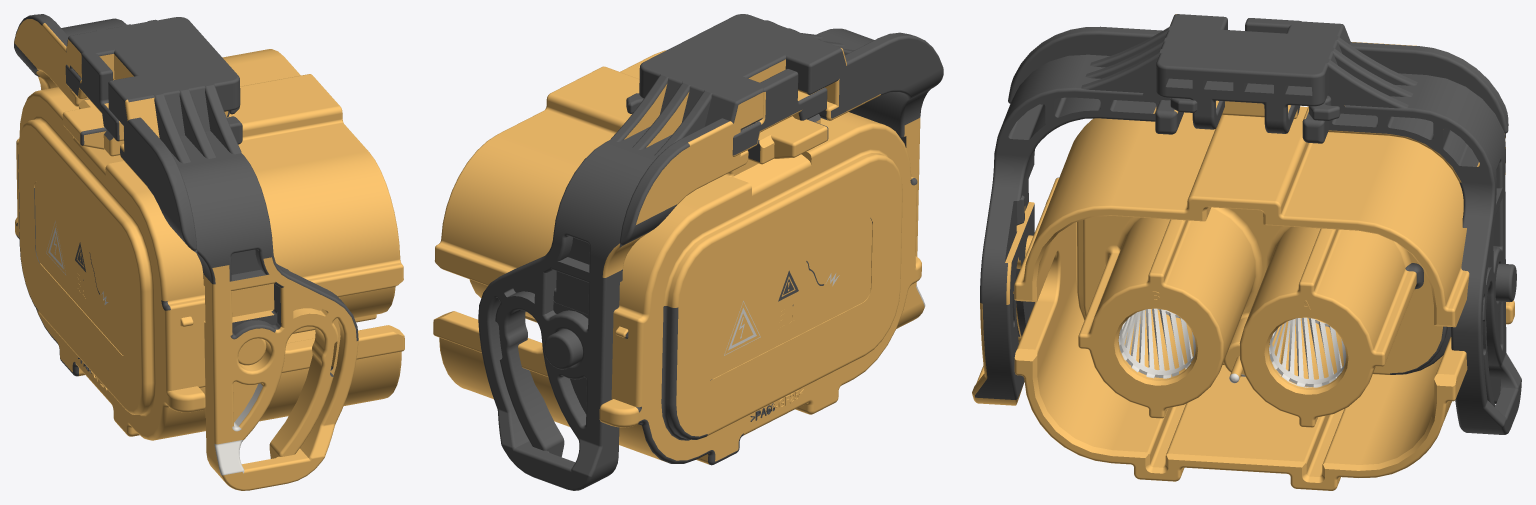
File: DLQ4-T.glb
The picture shows the model from 3 angles, left to right: view 1: azimuth 30°, elevation 25°; view 2: azimuth 150°, elevation 25°; view 3: azimuth 270°, elevation 25°; orthographic projection. The views are drawn at different scales.
Visible parts, largest first — view 1: DLQ4-T v7; view 2: DLQ4-T v7; view 3: DLQ4-T v7.
Part boxes in pixels (x1=…): DLQ4-T v7: x1=14, y1=14, x2=404, y2=490; DLQ4-T v7: x1=433, y1=14, x2=943, y2=490; DLQ4-T v7: x1=972, y1=14, x2=1521, y2=490.
Bounding box in the file's own units: 5.55 × 6.29 × 8.67.
